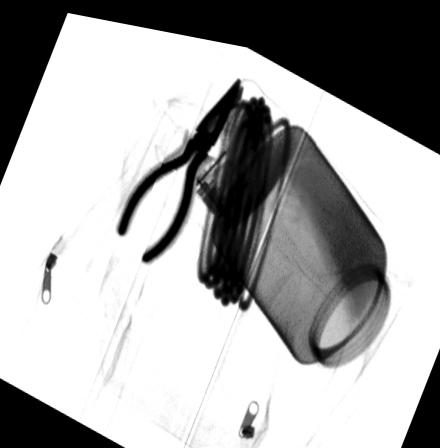Pliers: (115, 67, 241, 259)
